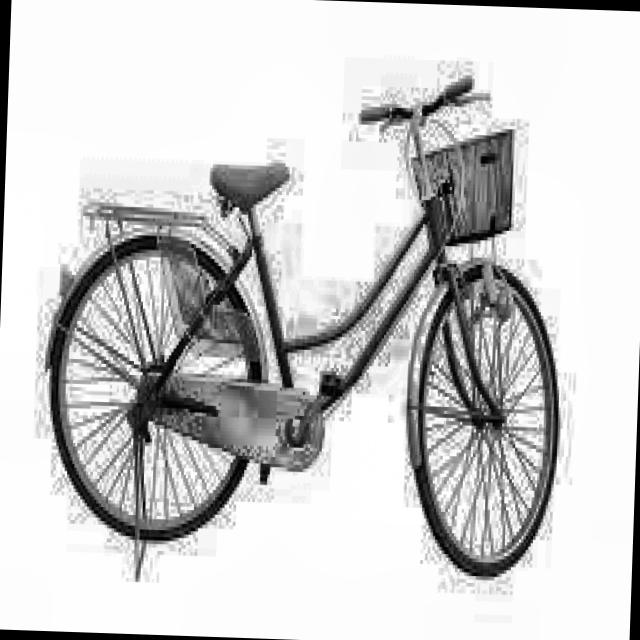bicycle: (29, 59, 576, 600)
